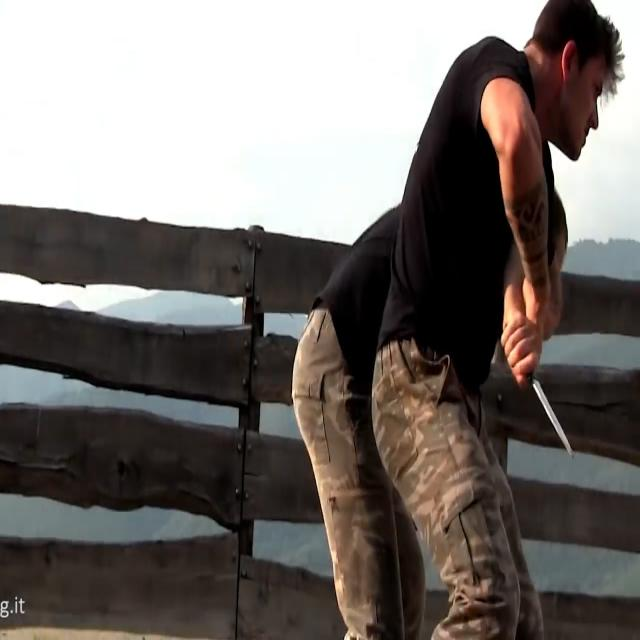knife: (531, 374, 577, 464)
